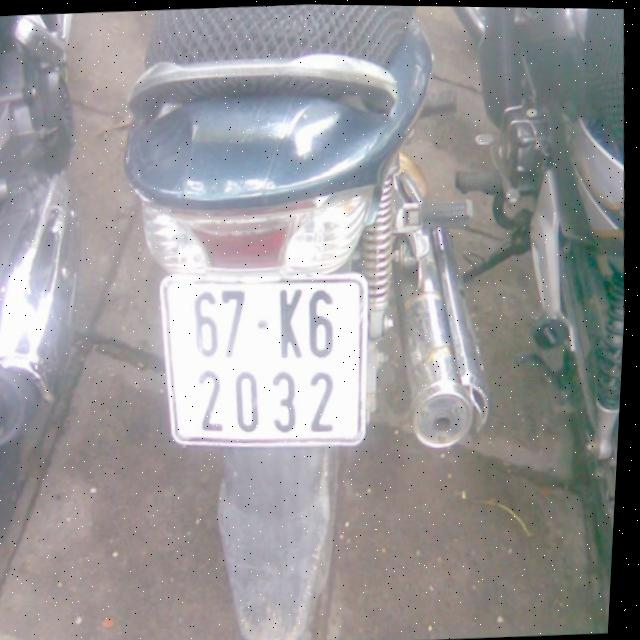motorcycle: (83, 2, 519, 640), (416, 7, 640, 640), (0, 11, 121, 586)
plate: (149, 262, 378, 455)
